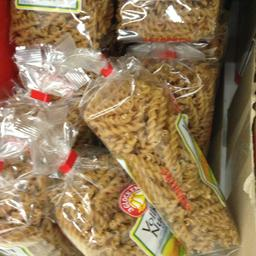pasta: (78, 52, 244, 254), (42, 132, 176, 254)
